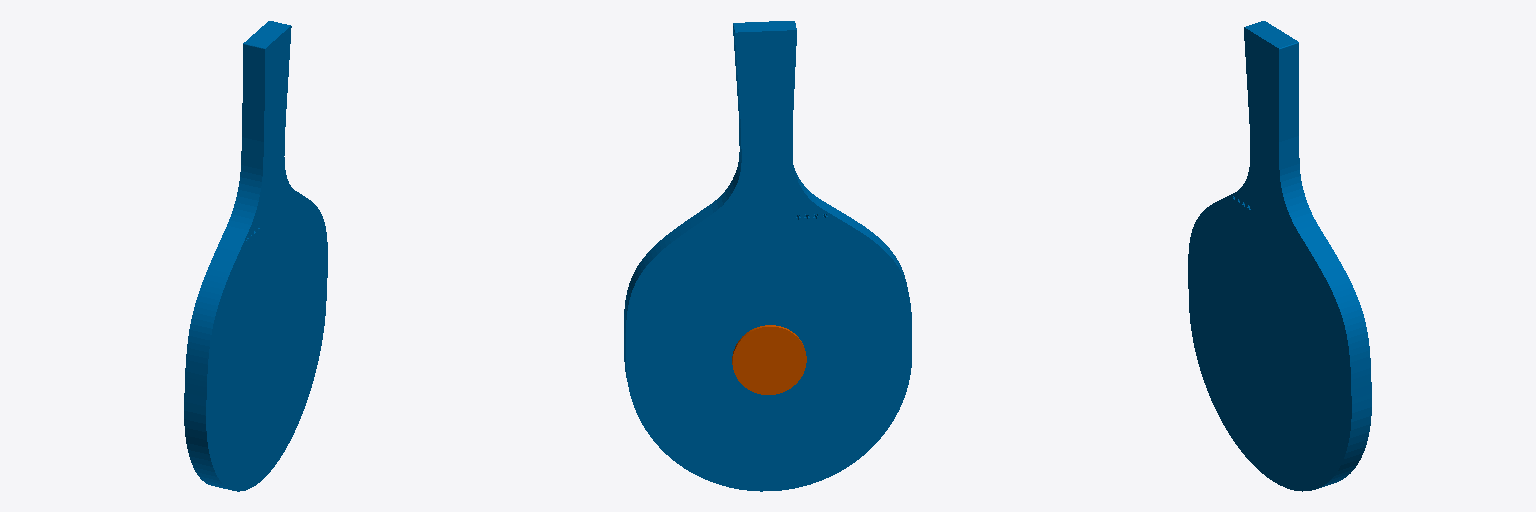
The robot description file, URDF, robot "panda":
<?xml version="1.0" ?>
<!-- =================================================================================== -->
<!-- |    This document was autogenerated by xacro from panda_arm_hand.urdf.xacro      | -->
<!-- |    EDITING THIS FILE BY HAND IS NOT RECOMMENDED                                 | -->
<!-- =================================================================================== -->
<robot name="panda" xmlns:xacro="http://www.ros.org/wiki/xacro">
  <link name="panda_link0">
  	<inertial>
      <origin rpy="0 0 0" xyz="0 0 0.05"/>
       <mass value="2.9"/>
       <inertia ixx="0.1" ixy="0" ixz="0" iyy="0.1" iyz="0" izz="0.1"/>
    </inertial>
    <visual>
      <geometry>
        <mesh filename="package://meshes/collision/link0.obj"/>
      </geometry>
      <material name="panda_white">
    		<color rgba="1. 1. 1. 1."/>
  		</material>
    </visual>
    <collision>
      <geometry>
        <mesh filename="package://meshes/collision/link0.obj"/>
      </geometry>
      <material name="panda_white"/>
    </collision>
  </link>
  <link name="panda_link1">
  	<inertial>
      <origin rpy="0 0 0" xyz="0 -0.04 -0.05"/>
       <mass value="2.7"/>
       <inertia ixx="0.1" ixy="0" ixz="0" iyy="0.1" iyz="0" izz="0.1"/>
    </inertial>
    <visual>
      <geometry>
        <mesh filename="package://meshes/visual/link1.obj"/>
      </geometry>
      <material name="panda_white"/>
    </visual>
    <collision>
      <geometry>
        <mesh filename="package://meshes/collision/link1.obj"/>
      </geometry>
      <material name="panda_white"/>
    </collision>
  </link>
  <joint name="panda_joint1" type="revolute">
    <safety_controller k_position="100.0" k_velocity="40.0" soft_lower_limit="-2.8973" soft_upper_limit="2.8973"/>
    <origin rpy="0 0 0" xyz="0 0 0.333"/>
    <parent link="panda_link0"/>
    <child link="panda_link1"/>
    <axis xyz="0 0 1"/>
    <limit effort="87" lower="-2.9671" upper="2.9671" velocity="2.1750"/>
  </joint>
  <link name="panda_link2">
  	<inertial>
      <origin rpy="0 0 0" xyz="0 -0.04 0.06"/>
       <mass value="2.73"/>
       <inertia ixx="0.1" ixy="0" ixz="0" iyy="0.1" iyz="0" izz="0.1"/>
    </inertial>
    <visual>
      <geometry>
        <mesh filename="package://meshes/visual/link2.obj"/>
      </geometry>
      <material name="panda_white"/>
    </visual>
    <collision>
      <geometry>
        <mesh filename="package://meshes/collision/link2.obj"/>
      </geometry>
      <material name="panda_white"/>
    </collision>
  </link>
  <joint name="panda_joint2" type="revolute">
    <safety_controller k_position="100.0" k_velocity="40.0" soft_lower_limit="-1.7628" soft_upper_limit="1.7628"/>
    <origin rpy="-1.57079632679 0 0" xyz="0 0 0"/>
    <parent link="panda_link1"/>
    <child link="panda_link2"/>
    <axis xyz="0 0 1"/>
    <limit effort="87" lower="-1.8326" upper="1.8326" velocity="2.1750"/>
  </joint>
  <link name="panda_link3">
	  <inertial>
      <origin rpy="0 0 0" xyz="0.01 0.01 -0.05"/>
       <mass value="2.04"/>
       <inertia ixx="0.1" ixy="0" ixz="0" iyy="0.1" iyz="0" izz="0.1"/>
    </inertial>
    <visual>
      <geometry>
        <mesh filename="package://meshes/visual/link3.obj"/>
      </geometry>
      <material name="panda_red">
    		<color rgba="1. 1. 1. 1."/>
  		</material>
    </visual>
    <collision>
      <geometry>
        <mesh filename="package://meshes/collision/link3.obj"/>
      </geometry>
    </collision>
  </link>
  <joint name="panda_joint3" type="revolute">
    <safety_controller k_position="100.0" k_velocity="40.0" soft_lower_limit="-2.8973" soft_upper_limit="2.8973"/>
    <origin rpy="1.57079632679 0 0" xyz="0 -0.316 0"/>
    <parent link="panda_link2"/>
    <child link="panda_link3"/>
    <axis xyz="0 0 1"/>
    <limit effort="87" lower="-2.9671" upper="2.9671" velocity="2.1750"/>
  </joint>
  <link name="panda_link4">
  	<inertial>
      <origin rpy="0 0 0" xyz="-0.03 0.03 0.02"/>
       <mass value="2.08"/>
       <inertia ixx="0.1" ixy="0" ixz="0" iyy="0.1" iyz="0" izz="0.1"/>
    </inertial>
    <visual>
      <geometry>
        <mesh filename="package://meshes/visual/link4.obj"/>
      </geometry>
      <material name="panda_white"/>
    </visual>
    <collision>
      <geometry>
        <mesh filename="package://meshes/collision/link4.obj"/>
      </geometry>
      <material name="panda_white"/>
    </collision>
  </link>
  <joint name="panda_joint4" type="revolute">
    <safety_controller k_position="100.0" k_velocity="40.0" soft_lower_limit="-3.0718" soft_upper_limit="-0.0698"/>
    <origin rpy="1.57079632679 0 0" xyz="0.0825 0 0"/>
    <parent link="panda_link3"/>
    <child link="panda_link4"/>
    <axis xyz="0 0 1"/>
    <limit effort="87" lower="-3.1416" upper="0.0" velocity="2.1750"/>
  </joint>
  <link name="panda_link5">
  	<inertial>
      <origin rpy="0 0 0" xyz="0 0.04 -0.12"/>
       <mass value="3"/>
       <inertia ixx="0.1" ixy="0" ixz="0" iyy="0.1" iyz="0" izz="0.1"/>
    </inertial>
    <visual>
      <geometry>
        <mesh filename="package://meshes/visual/link5.obj"/>
      </geometry>
      <material name="panda_white"/>
    </visual>
    <collision>
      <geometry>
        <mesh filename="package://meshes/collision/link5.obj"/>
      </geometry>
      <material name="panda_white"/>
    </collision>
  </link>
  <joint name="panda_joint5" type="revolute">
    <safety_controller k_position="100.0" k_velocity="40.0" soft_lower_limit="-2.8973" soft_upper_limit="2.8973"/>
    <origin rpy="-1.57079632679 0 0" xyz="-0.0825 0.384 0"/>
    <parent link="panda_link4"/>
    <child link="panda_link5"/>
    <axis xyz="0 0 1"/>
    <limit effort="12" lower="-2.9671" upper="2.9671" velocity="2.6100"/>
  </joint>
  <link name="panda_link6">
  	<inertial>
      <origin rpy="0 0 0" xyz="0.04 0 0"/>
       <mass value="1.3"/>
       <inertia ixx="0.1" ixy="0" ixz="0" iyy="0.1" iyz="0" izz="0.1"/>
    </inertial>
    <visual>
      <geometry>
        <mesh filename="package://meshes/visual/link6.obj"/>
      </geometry>
      <material name="panda_white"/>
    </visual>
    <collision>
      <geometry>
        <mesh filename="package://meshes/collision/link6.obj"/>
      </geometry>
      <material name="panda_white"/>
    </collision>
  </link>
  <joint name="panda_joint6" type="revolute">
    <safety_controller k_position="100.0" k_velocity="40.0" soft_lower_limit="-0.0175" soft_upper_limit="3.7525"/>
    <origin rpy="1.57079632679 0 0" xyz="0 0 0"/>
    <parent link="panda_link5"/>
    <child link="panda_link6"/>
    <axis xyz="0 0 1"/>
    <limit effort="12" lower="-0.0873" upper="3.8223" velocity="2.6100"/>
  </joint>
  <link name="panda_link7">
  	<inertial>
      <origin rpy="0 0 0" xyz="0 0 0.08"/>
       <mass value=".2"/>
       <inertia ixx="0.1" ixy="0" ixz="0" iyy="0.1" iyz="0" izz="0.1"/>
    </inertial>
    <visual>
      <geometry>
        <mesh filename="package://meshes/collision/link7.obj"/>
      </geometry>
      <material name="panda_white"/>
    </visual>
    <collision>
      <geometry>
        <mesh filename="package://meshes/collision/link7.obj"/>
      </geometry>
      <material name="panda_white"/>
    </collision>
  </link>
  <joint name="panda_joint7" type="revolute">
    <safety_controller k_position="100.0" k_velocity="40.0" soft_lower_limit="-2.8973" soft_upper_limit="2.8973"/>
    <origin rpy="1.57079632679 0 0" xyz="0.088 0 0"/>
    <parent link="panda_link6"/>
    <child link="panda_link7"/>
    <axis xyz="0 0 1"/>
    <limit effort="12" lower="-2.9671" upper="2.9671" velocity="2.6100"/>
  </joint>
  <link name="panda_link8">
  	 <inertial>
      <origin rpy="0 0 0" xyz="0 0 0"/>
       <mass value="0.0"/>
       <inertia ixx="0.1" ixy="0" ixz="0" iyy="0.1" iyz="0" izz="0.1"/>
    </inertial>
  </link>
  <joint name="panda_joint8" type="fixed">
    <origin rpy="0 0 0" xyz="0 0 0.107"/>
    <parent link="panda_link7"/>
    <child link="panda_link8"/>
    <axis xyz="0 0 0"/>
  </joint>
  <joint name="panda_hand_joint" type="fixed">
    <parent link="panda_link8"/>
    <child link="panda_hand"/>
    <origin rpy="0 0 -0.785398163397" xyz="0 0 0"/>
  </joint>
  <link name="panda_hand">
  	<inertial>
      <origin rpy="0 0 0" xyz="0 0 0.04"/>
       <mass value=".81"/>
       <inertia ixx="0.1" ixy="0" ixz="0" iyy="0.1" iyz="0" izz="0.1"/>
    </inertial>
    <visual>
      <geometry>
        <mesh filename="package://meshes/visual/hand.obj"/>
      </geometry>
      <material name="panda_white"/>
    </visual>
    <collision>
      <geometry>
        <mesh filename="package://meshes/collision/hand.obj"/>
      </geometry>
      <material name="panda_white"/>
    </collision>
  </link>
  <link name="panda_leftfinger">
       <contact>
      <friction_anchor/>
      <stiffness value="30000.0"/>
      <damping value="1000.0"/>
      <spinning_friction value="0.1"/>
      <lateral_friction value="1.0"/>
    </contact>
  	<inertial>
      <origin rpy="0 0 0" xyz="0 0.01 0.02"/>
       <mass value="0.1"/>
       <inertia ixx="0.1" ixy="0" ixz="0" iyy="0.1" iyz="0" izz="0.1"/>
    </inertial>
    <visual>
      <geometry>
        <mesh filename="package://meshes/visual/finger.obj"/>
      </geometry>
      <material name="panda_white"/>
    </visual>
    <collision>
      <geometry>
        <mesh filename="package://meshes/collision/finger.obj"/>
      </geometry>
      <material name="panda_white"/>
    </collision>
  </link>
  <link name="panda_rightfinger">
        <contact>
      <friction_anchor/>
      <stiffness value="30000.0"/>
      <damping value="1000.0"/>
      <spinning_friction value="0.1"/>
      <lateral_friction value="1.0"/>
    </contact>

  	<inertial>
      <origin rpy="0 0 0" xyz="0 -0.01 0.02"/>
       <mass value="0.1"/>
       <inertia ixx="0.1" ixy="0" ixz="0" iyy="0.1" iyz="0" izz="0.1"/>
    </inertial>
    <visual>
      <origin rpy="0 0 3.14159265359" xyz="0 0 0"/>
      <geometry>
        <mesh filename="package://meshes/visual/finger.obj"/>
      </geometry>
      <material name="panda_white"/>
    </visual>
    <collision>
      <origin rpy="0 0 3.14159265359" xyz="0 0 0"/>
      <geometry>
        <mesh filename="package://meshes/collision/finger.obj"/>
      </geometry>
      <material name="panda_white"/>
    </collision>
  </link>
  <joint name="panda_finger_joint1" type="prismatic">
    <parent link="panda_hand"/>
    <child link="panda_leftfinger"/>
    <origin rpy="0 0 0" xyz="0 0 0.0584"/>
    <axis xyz="0 1 0"/>
    <limit effort="20" lower="0.0" upper="0.04" velocity="0.2"/>
  </joint>
  <joint name="panda_finger_joint2" type="prismatic">
    <parent link="panda_hand"/>
    <child link="panda_rightfinger"/>
    <origin rpy="0 0 0" xyz="0 0 0.0584"/>
    <axis xyz="0 -1 0"/>
    <limit effort="20" lower="0.0" upper="0.04" velocity="0.2"/>
    <mimic joint="panda_finger_joint1"/>
  </joint>
   
  
  <link name="paddle_2_v11">
    <inertial>
      <origin xyz="1.536717935846088e-05 -0.04098183364350794 -0.15141084630928492" rpy="0 0 0"/>
      <mass value="0.41109102084948795"/>
      <inertia ixx="0.001359406044357525" iyy="0.001729813346568243" izz="0.0005917335521479494" ixy="8.25063059278347e-05" iyz="-0.00033229452756661226" ixz="-2.269500528657986e-05"/>
    </inertial>
    <visual>
      <origin xyz="0.108837 -0.718071 -0.819981" rpy="0 0 0"/>
      <geometry>
        <mesh filename="package://meshes/collision/paddle_2_v11.stl" scale="0.001 0.001 0.001"/>
      </geometry>
      <material name="silver"/>
      <material/>
    </visual>
    <collision>
      <origin xyz="0.108837 -0.718071 -0.819981" rpy="0 0 0"/>
      <geometry>
        <mesh filename="package://meshes/collision/paddle_2_v11.stl" scale="0.001 0.001 0.001"/>
      </geometry>
    </collision>
  </link>


  <joint name="panda_bat_mount" type="fixed">
    <origin xyz="0.0 0.0 0.067" rpy="3.4416 0 0"/>
    <parent link="panda_hand"/>
    <child link="paddle_2_v11"/>
  </joint>

  <link name="end_eff1">
    <inertial>
      <origin xyz="0.00017706290709425254 0.000950405984308178 -0.0002568516892724748" rpy="0 0 0"/>
      <mass value="0.003088967880428063"/>
      <inertia ixx="2.826893721902951e-07" iyy="5.197459807051996e-07" izz="2.9215080272581954e-07" ixy="4.5764033500370234e-08" iyz="-6.646750296012728e-08" ixz="-1.238603561983789e-08"/>
    </inertial>
    <visual>
      <origin xyz="0.107731 -0.676972 -0.644582" rpy="0 0 0"/>
      <geometry>
        <mesh filename="package://meshes/collision/end_eff1.stl" scale="0.001 0.001 0.001"/>
      </geometry>
      <material name="silver"/>
      <material/>
    </visual>
    <collision>
      <origin xyz="0.107731 -0.676972 -0.644582" rpy="0 0 0"/>
      <geometry>
        <mesh filename="package://meshes/collision/end_eff1.stl" scale="0.001 0.001 0.001"/>
      </geometry>
    </collision>
  </link>

  <joint name="Rigid_27" type="fixed">
    <origin xyz="0.001106 -0.041099 -0.175399" rpy="0 0 0"/>
    <parent link="paddle_2_v11"/>
    <child link="end_eff1"/>
  </joint>
  
</robot>

--- Render facts (derived) ---
The picture shows the robot from 3 angles, left to right: view 1: azimuth 30°, elevation 25°; view 2: azimuth 150°, elevation 25°; view 3: azimuth 270°, elevation 25°; orthographic projection.
Robot: panda — 14 links, 13 joints (7 revolute, 2 prismatic, 4 fixed); root link panda_link0; default pose: every joint at zero.
Links seen in each view (by area): view 1: paddle_2_v11; view 2: paddle_2_v11, end_eff1; view 3: paddle_2_v11.
Link boxes in pixels (bbox=[...]): paddle_2_v11: bbox=[184, 21, 327, 491]; paddle_2_v11: bbox=[624, 21, 911, 491]; end_eff1: bbox=[732, 325, 806, 394]; paddle_2_v11: bbox=[1188, 21, 1371, 491].
Bounding box of the posed robot: 0.1267 × 0.0935 × 0.2529 m (x, y, z).
2 mesh visuals loaded from 12 distinct referenced files (2 binary STL); not drawn: 11 (reference not matched to a file when rendering).